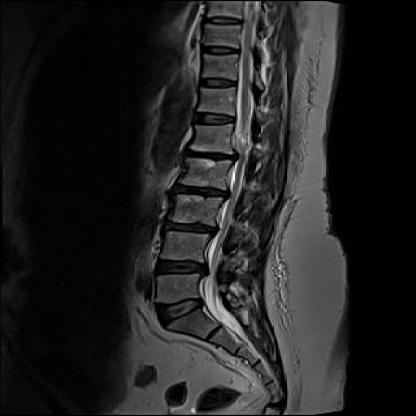Disc Bulgerotation: (162, 181, 234, 203), (147, 255, 213, 279), (174, 146, 241, 167), (156, 220, 223, 238)
